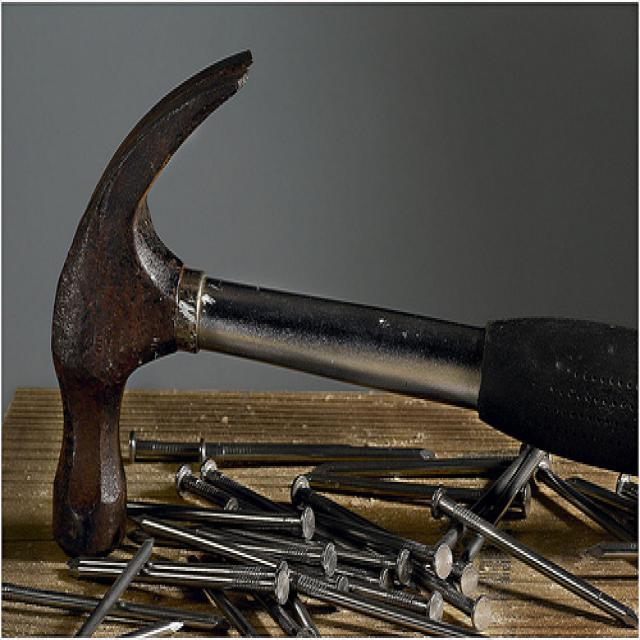hammer: (38, 34, 640, 578)
